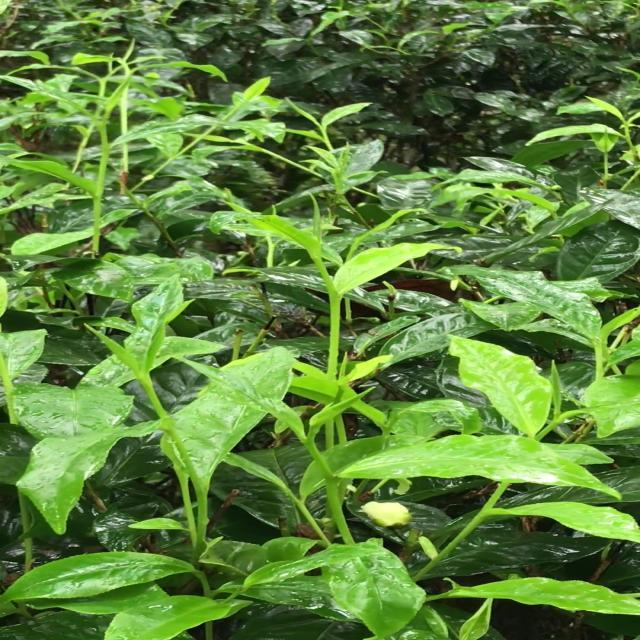Stem: (543, 422, 557, 435), (301, 439, 316, 450), (330, 295, 341, 306), (140, 377, 150, 388), (298, 502, 307, 511), (98, 125, 106, 134)
